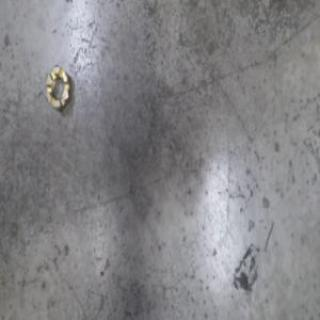Nuttrack_idkeyframe: (42, 61, 72, 114)
